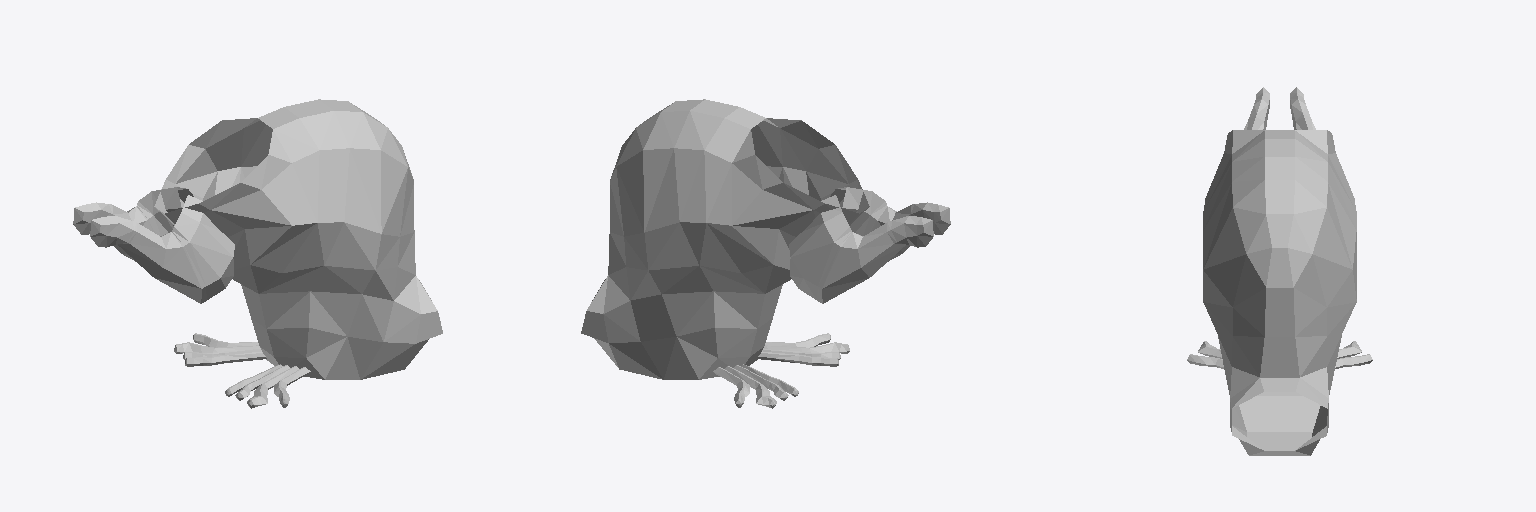
The model's file is sbody.obj.
The picture shows the model from 3 angles: view 1: azimuth 30°, elevation 25°; view 2: azimuth 150°, elevation 25°; view 3: azimuth 270°, elevation 25°; orthographic projection.
Visible parts, largest first — view 1: Object002_Mesh.002; view 2: Object002_Mesh.002; view 3: Object002_Mesh.002.
Part boxes in pixels (x1,y1,x2,y2): Object002_Mesh.002: (73, 99, 442, 408); Object002_Mesh.002: (581, 99, 950, 408); Object002_Mesh.002: (1187, 87, 1372, 455).
Size of the model in its own units: 0.1397 by 0.1032 by 0.0647.